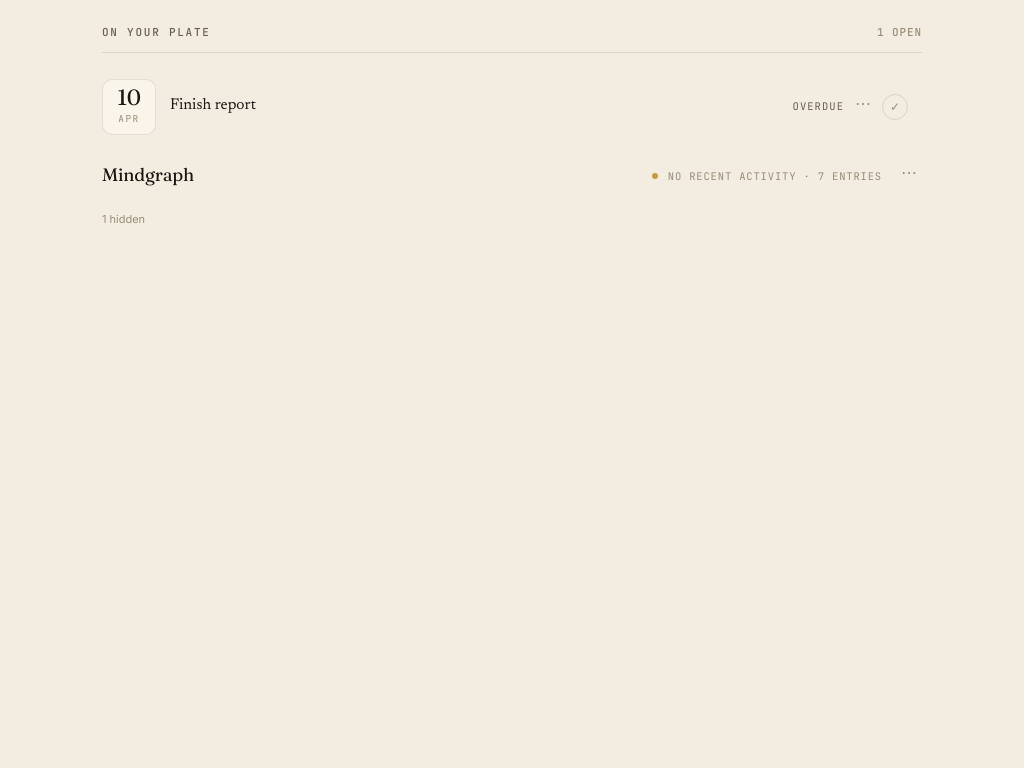
Journal single-page life view › overflow expander reveals hidden projects and keeps toggling local
Check: the text "Mindgraph" is shown, box [102,163,194,186]
Check: the text "App.js" is not shown
Note: The quiet expander carries the overflow (here: 1 hidden project).
Click the button "1 hidden" at {"x": 124, "y": 219}, box [102,206,145,232]
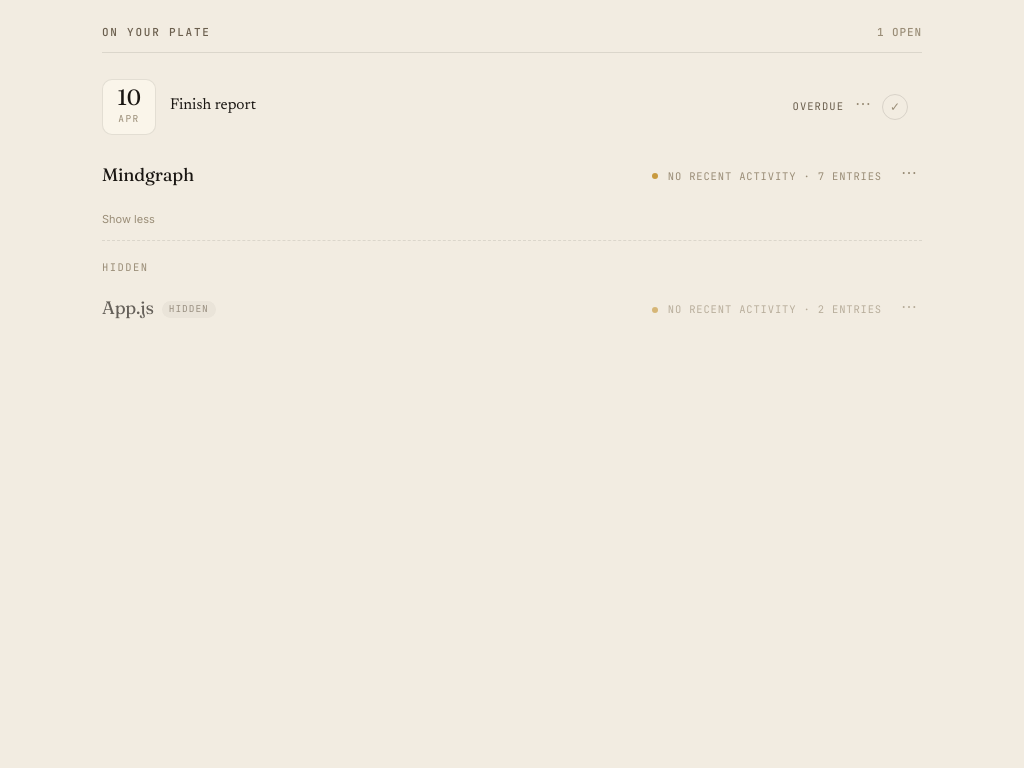
Check: the text "App.js" is shown, box [102,296,154,319]
Click the button named "actions for mindgraph" at {"x": 909, "y": 176}, box [896,164,922,190]
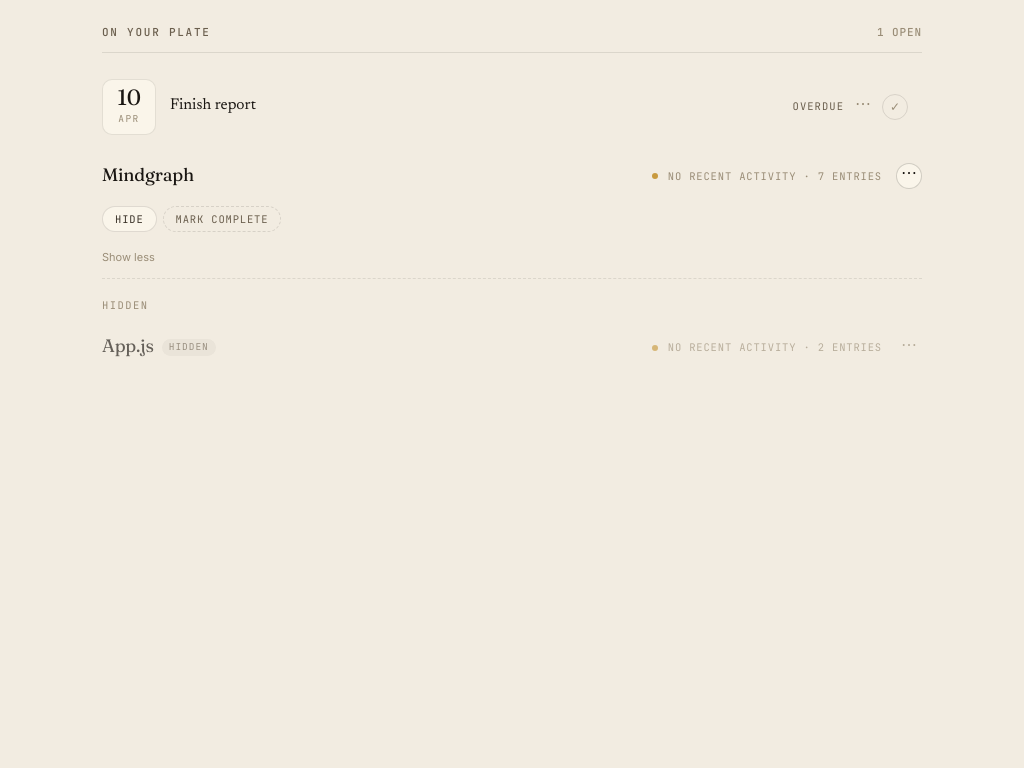
Click the button "Hide" at {"x": 129, "y": 219}, box [102,206,157,232]
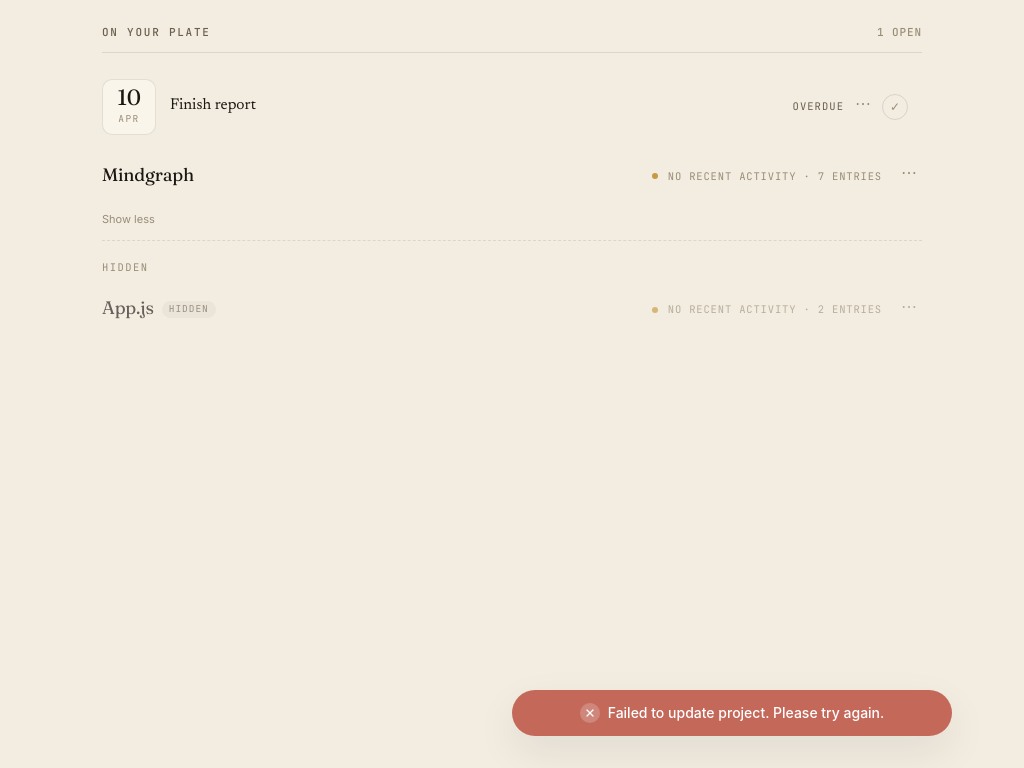
Check: the text "Mindgraph" is shown, box [102,163,194,186]
Check: the text "Failed to update project. Please try again." is shown, box [608,702,884,724]
